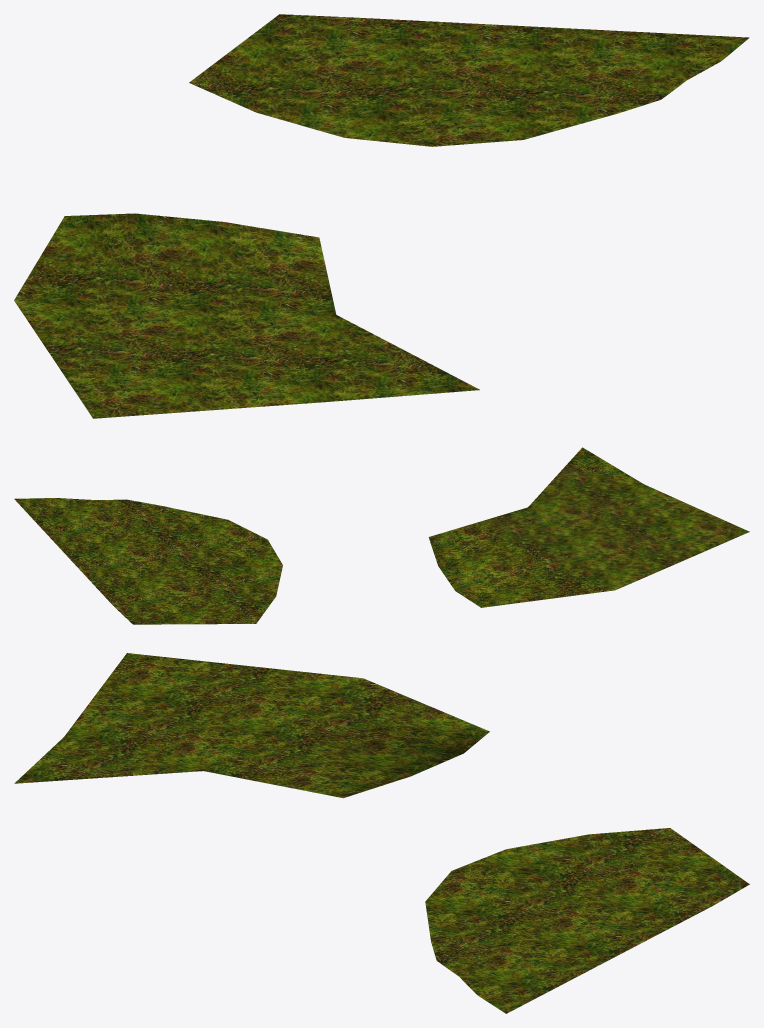
The model's file is TROLLHOLE02_ZRM_PSURF251.fbx.
3 renders of one model, top to bottom at view 1: azimuth 30°, elevation 25°; view 2: azimuth 150°, elevation 25°; view 3: azimuth 270°, elevation 25°, orthographic. The views are drawn at different scales.
Parts seen in each view (by area): view 1: TROLLHOLE02_ZRM_PSURF251; view 2: TROLLHOLE02_ZRM_PSURF251; view 3: TROLLHOLE02_ZRM_PSURF251.
Boxes of the visible parts, <box> form: TROLLHOLE02_ZRM_PSURF251: <box>14,14,749,418</box>; TROLLHOLE02_ZRM_PSURF251: <box>14,447,749,624</box>; TROLLHOLE02_ZRM_PSURF251: <box>14,653,749,1013</box>.
Bounding box in the file's own units: 188763 × 791 × 162648.
Materials: 1 (1 with a texture image).
